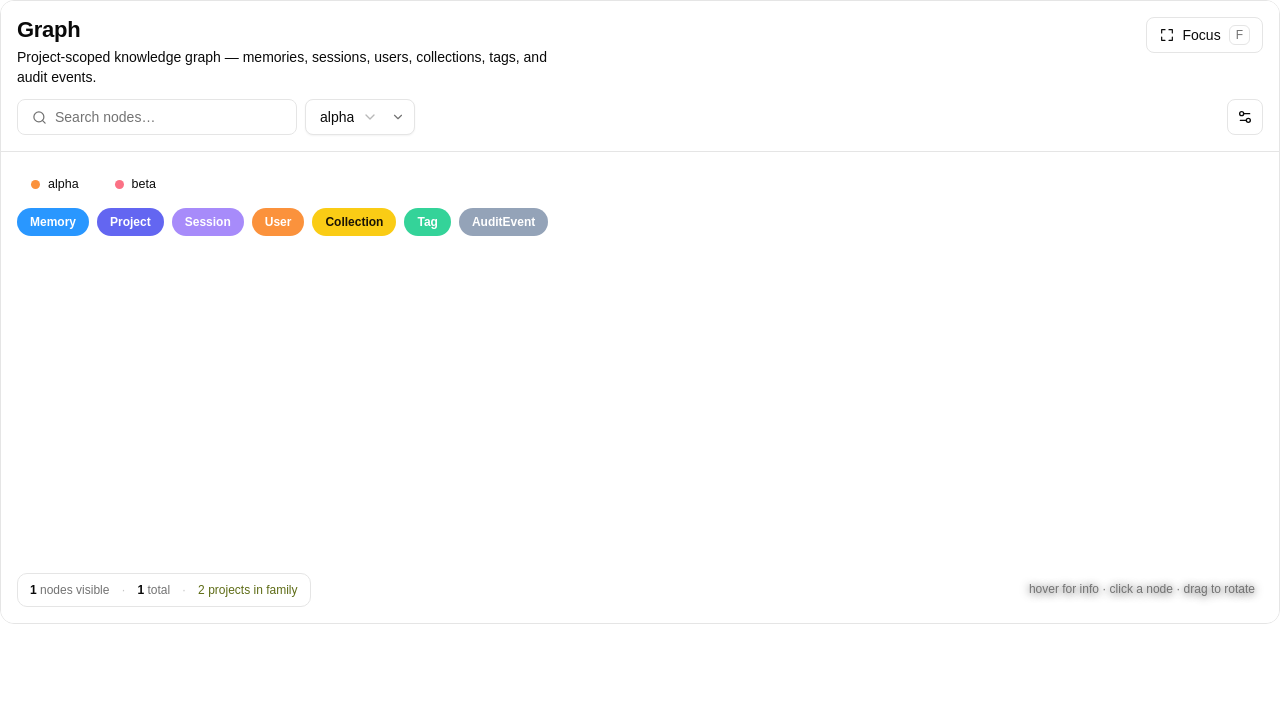
Test: Graph page › excludes archived projects from the dropdown
The width and height of the screenshot is (1280, 720).
Click the dropdown named "Select project".
click(360, 117)  # box [305,99,415,135]
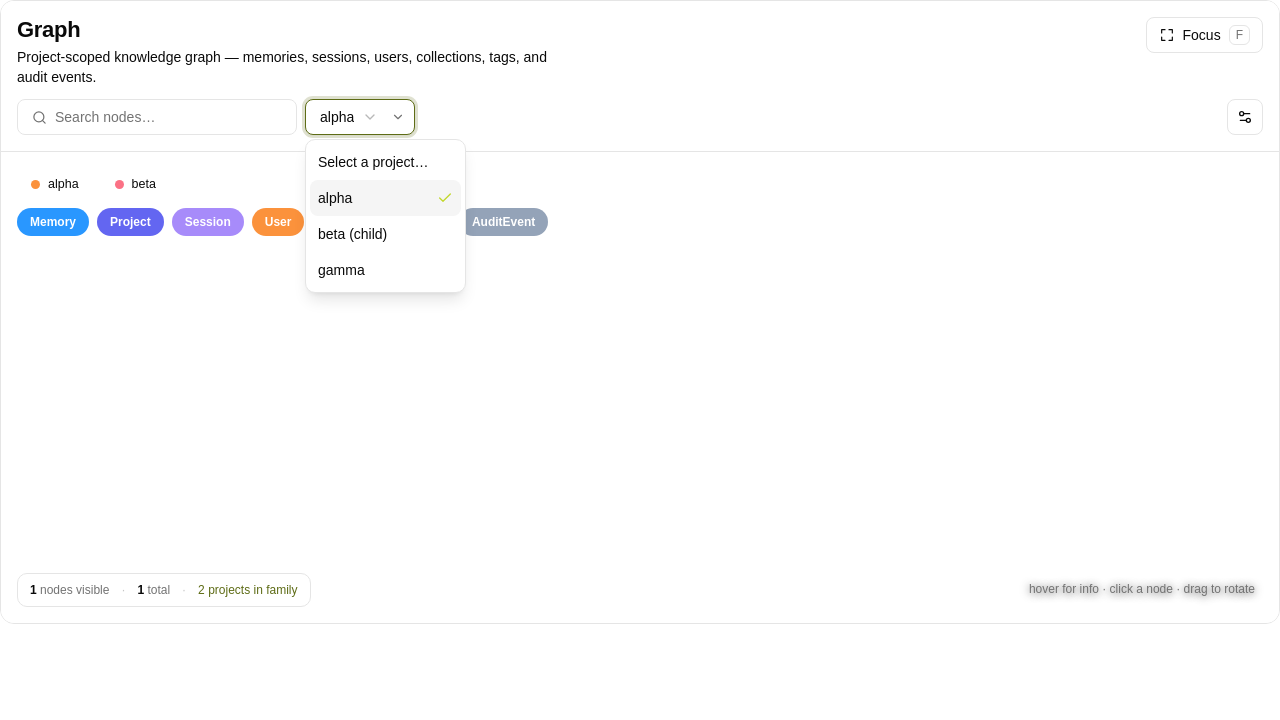
Expected: the option "alpha" is shown, [310,180,460,216]
Expected: the option "beta (child)" is shown, [318,226,387,242]
